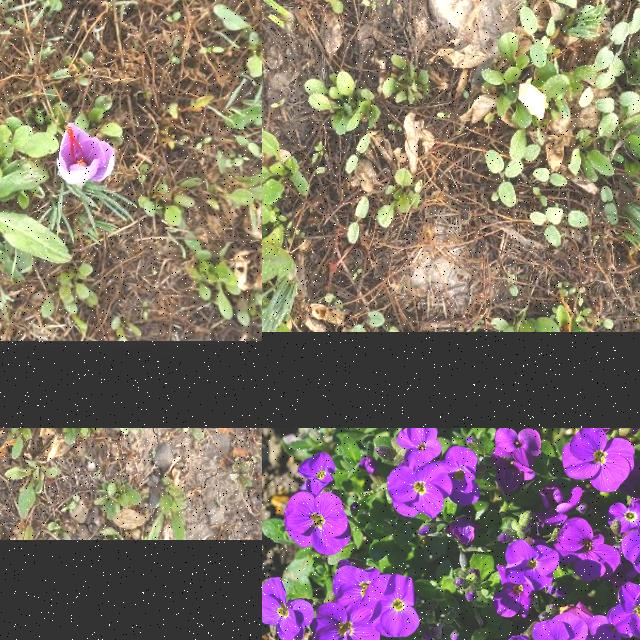flower: (57, 124, 115, 188)
